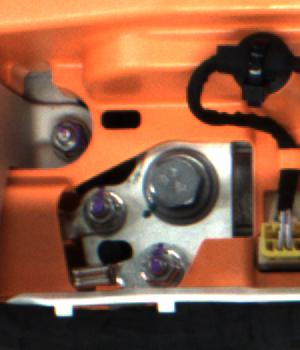nut_b: (138, 148, 220, 226)
screw_s: (84, 186, 125, 235), (140, 241, 182, 286), (46, 118, 83, 156)
